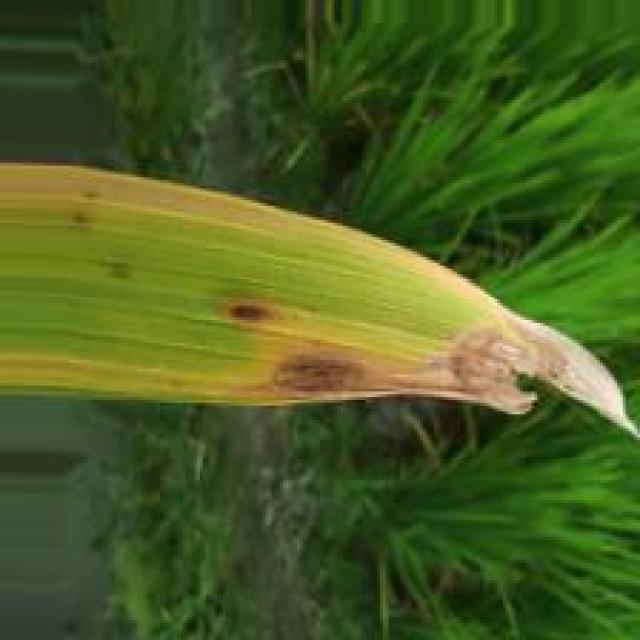Narrow_Brown_Leaf_Spot: (3, 160, 624, 419)
